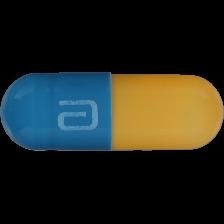68382-078: (0, 0, 224, 224)
